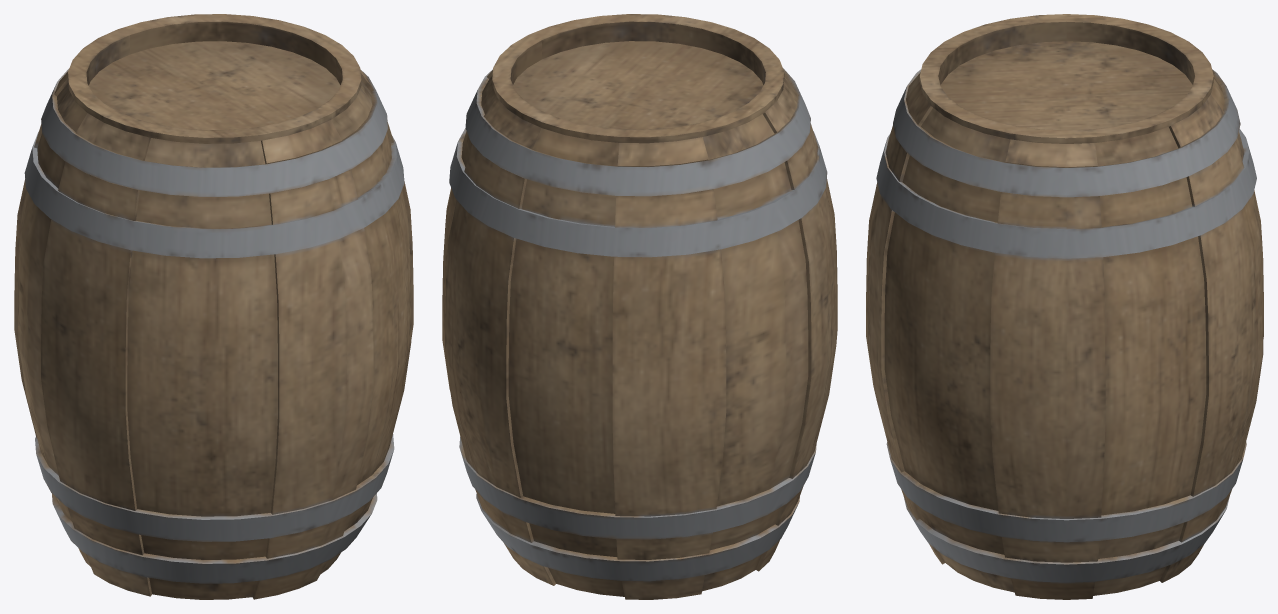
The model's file is Wood Barrell.fbx.
3 views of the same model, side by side, from view 1: azimuth 30°, elevation 25°; view 2: azimuth 150°, elevation 25°; view 3: azimuth 270°, elevation 25° (orthographic).
Parts seen in each view (by area): view 1: Cylinder.010; view 2: Cylinder.010; view 3: Cylinder.010.
Part boxes in pixels (x1,y1,x2,y2): Cylinder.010: [14, 14, 413, 599]; Cylinder.010: [442, 14, 837, 599]; Cylinder.010: [866, 14, 1263, 599].
Size of the model in its own units: 1382 by 1782 by 1370.
